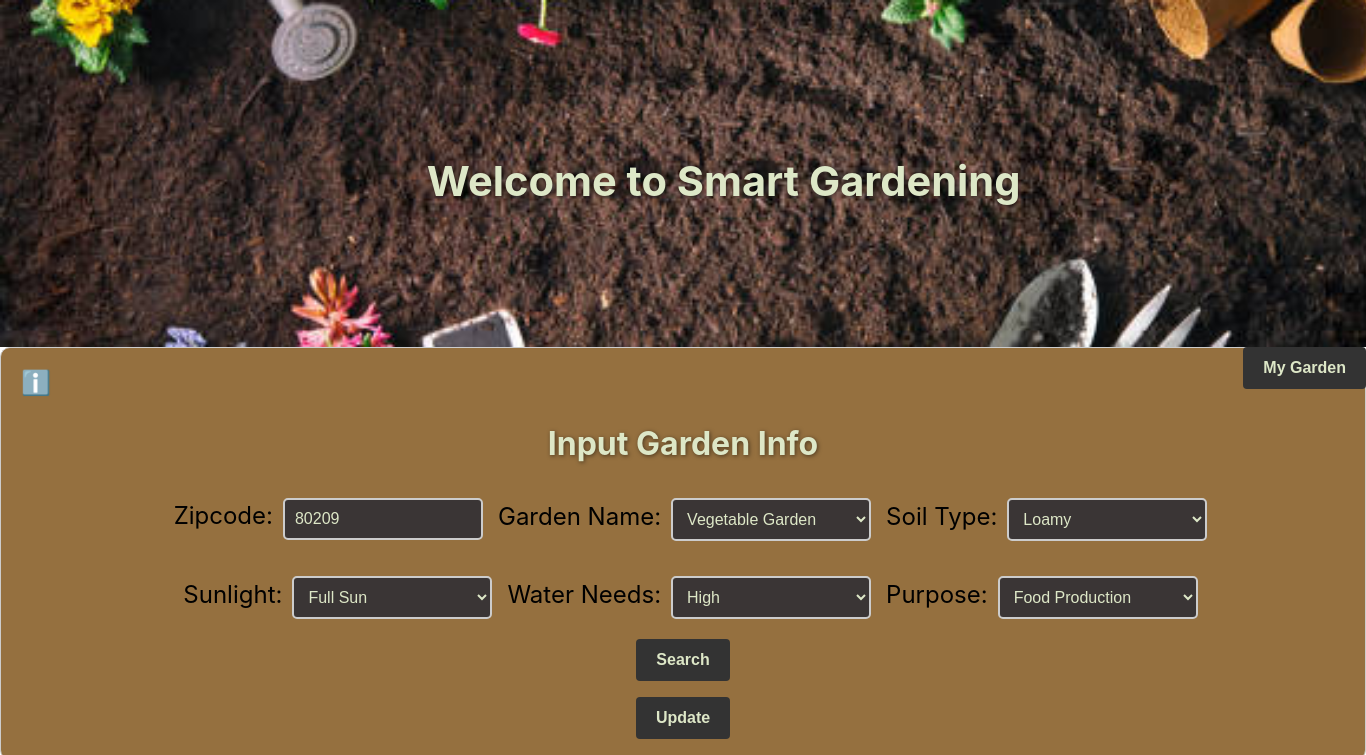
Test: recommendations › cannot save a plant twice
Click the button with class "search-button": point(683, 661) [636, 640, 729, 682]
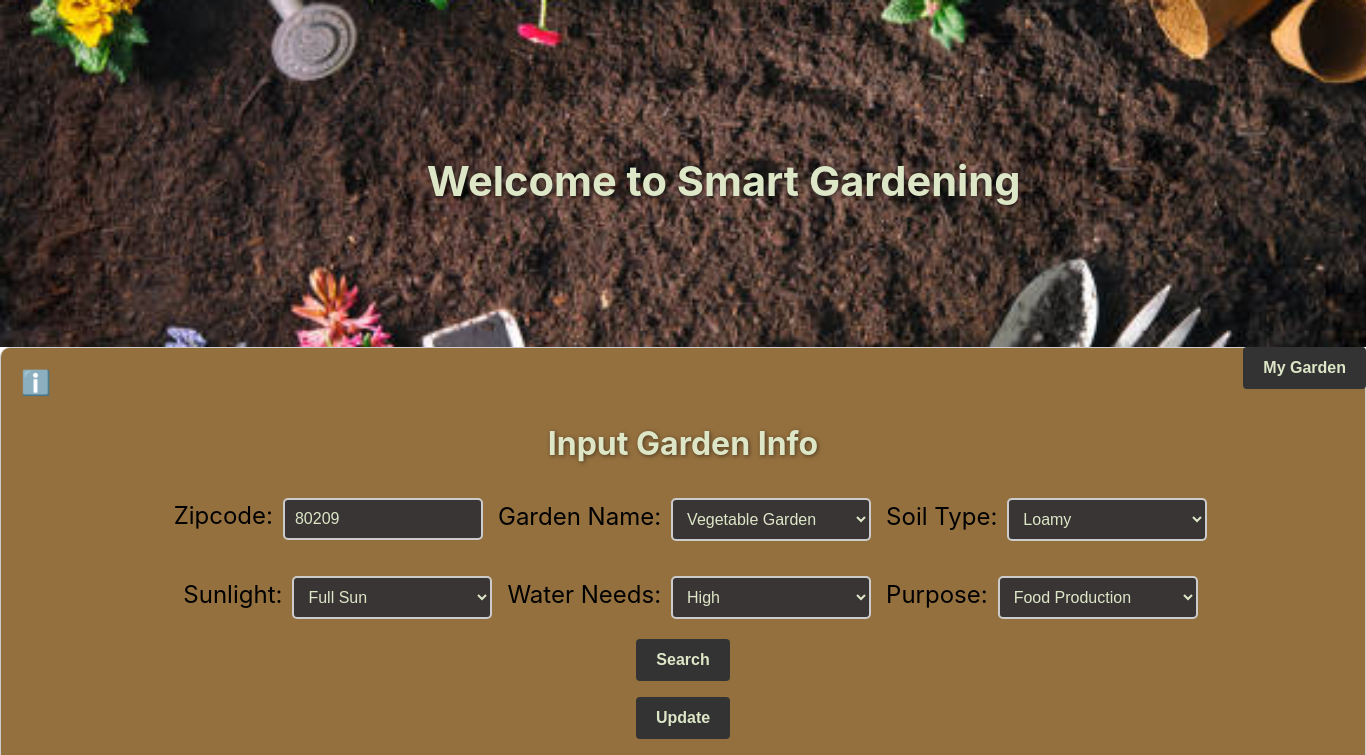
Scroll
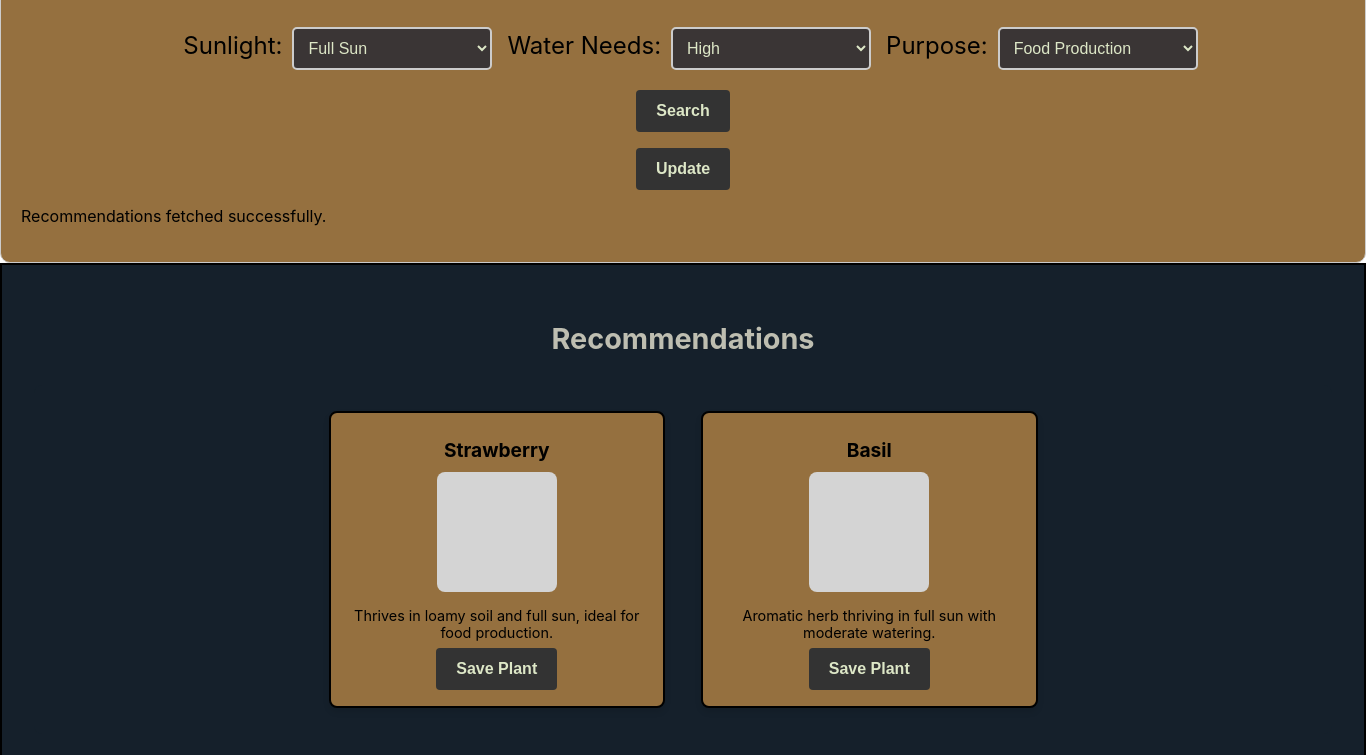
Click the button "Save Plant" below "Strawberry": point(497, 669) [436, 648, 557, 690]
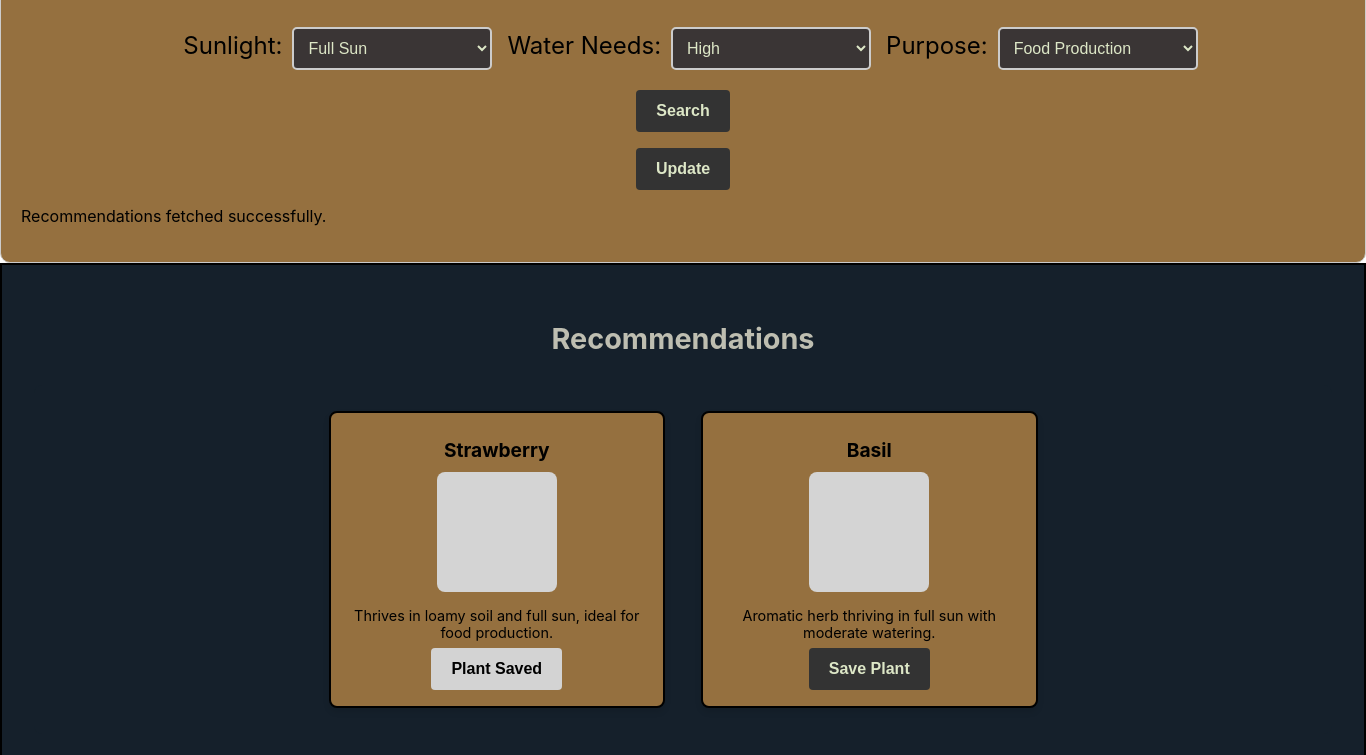
Now the button "Plant Saved" is shown, box [431, 648, 562, 690]
